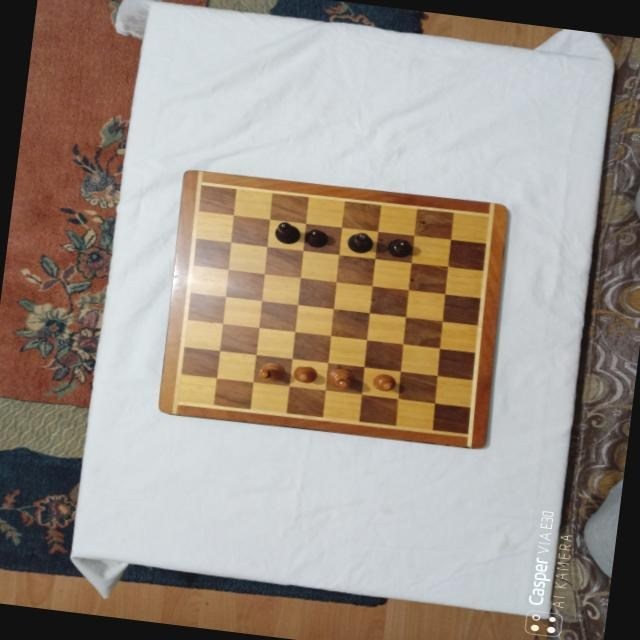black-bishop: (273, 219, 301, 244), (346, 230, 374, 254)
black-pawn: (386, 235, 414, 257), (302, 226, 329, 248)
white-bishop: (325, 366, 355, 389), (258, 360, 286, 383)
white-pawn: (371, 370, 397, 391), (292, 362, 318, 383)
